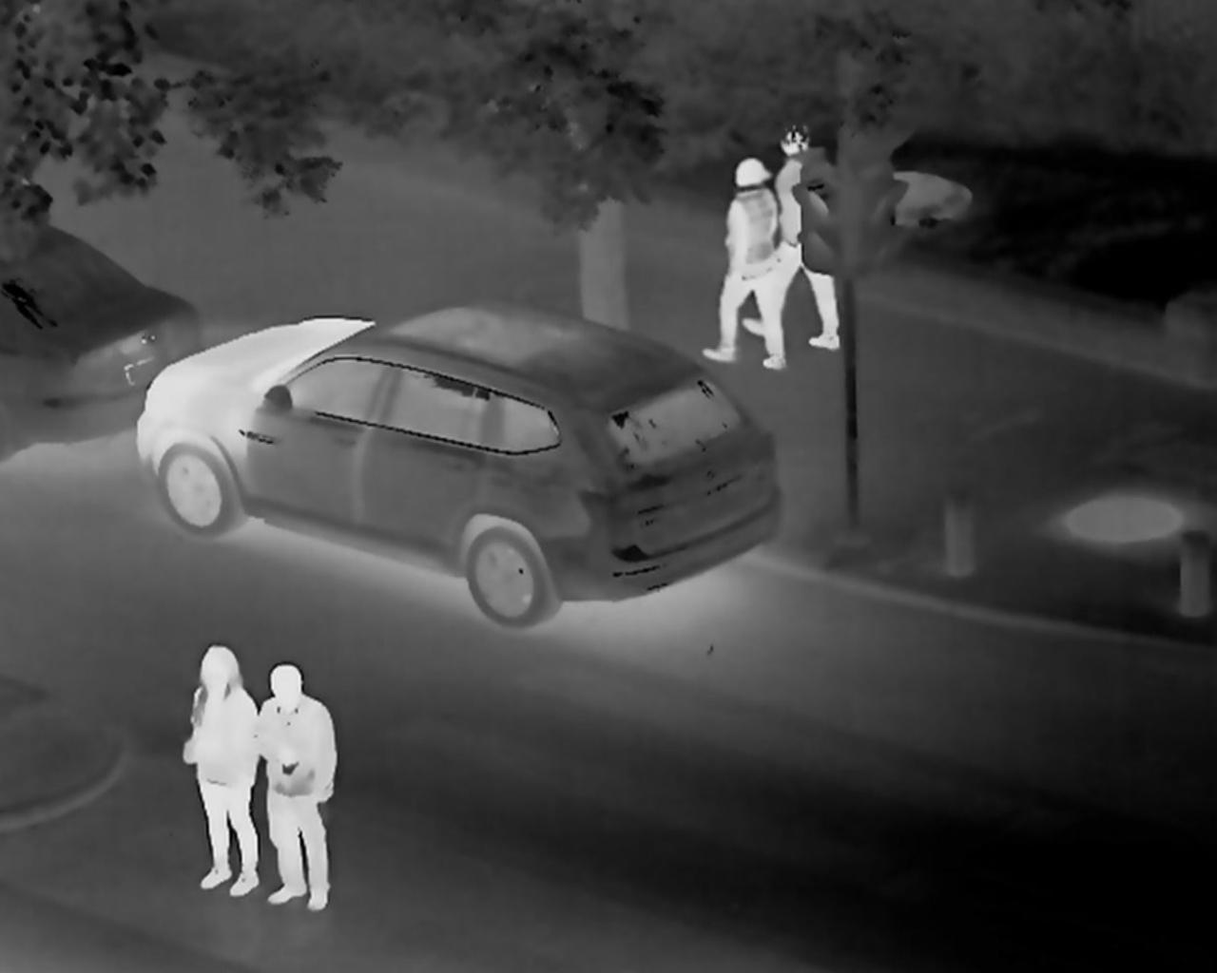person: (737, 126, 846, 353), (251, 662, 338, 908), (183, 640, 260, 897), (703, 154, 789, 373)
